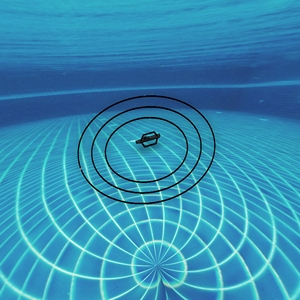submarine: (137, 134, 163, 146)
